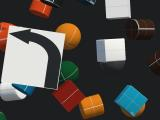Left: (0, 25, 66, 90)
